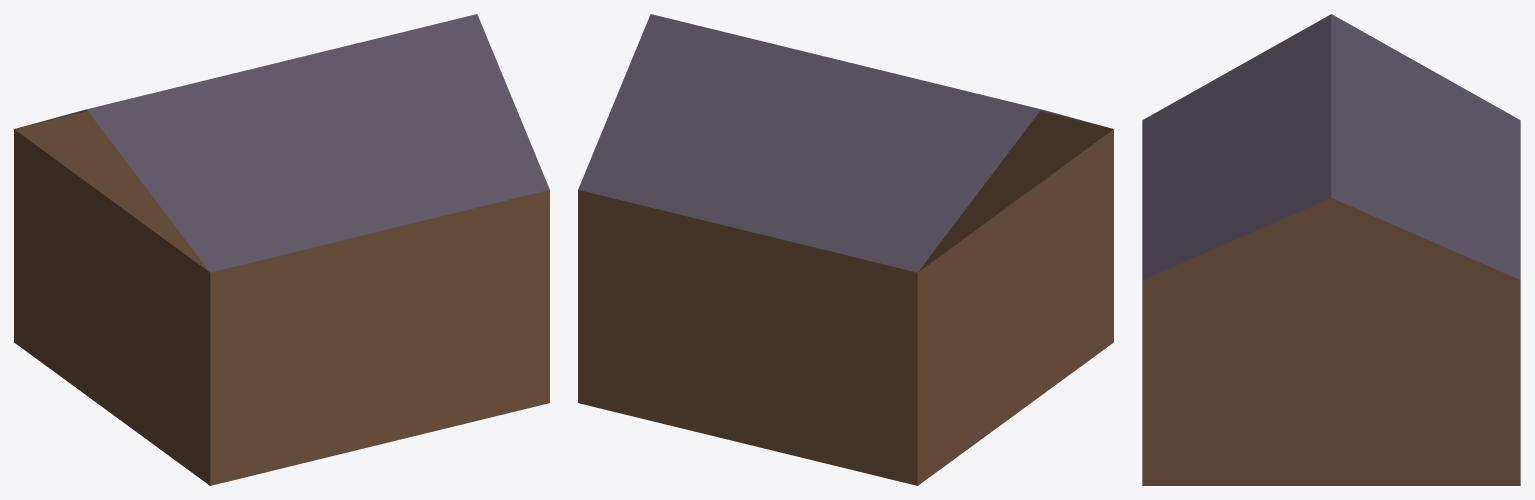
File: house.obj
3 views of the same model, side by side, from view 1: azimuth 30°, elevation 25°; view 2: azimuth 150°, elevation 25°; view 3: azimuth 270°, elevation 25° (orthographic). The views are drawn at different scales.
Visible parts, largest first — view 1: House; view 2: House; view 3: House.
Part boxes in pixels (box(x1,y1,x2,y2)): House: box(14, 14, 549, 485); House: box(578, 14, 1113, 485); House: box(1142, 14, 1520, 485).
Size of the model in its own units: 4.6 by 3.5 by 4.
